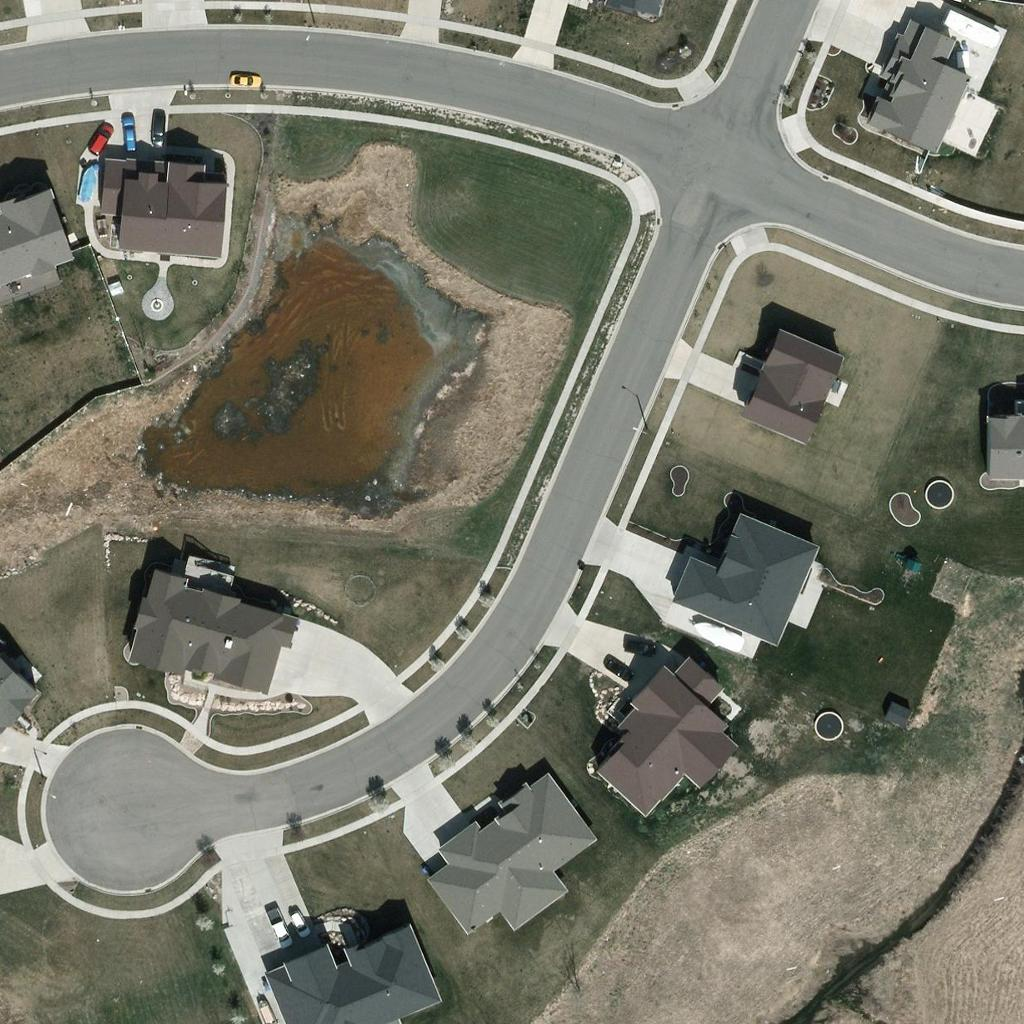car: (225, 61, 259, 95), (141, 111, 175, 145), (111, 112, 145, 146), (84, 123, 118, 157), (621, 629, 655, 663), (598, 649, 632, 683), (279, 905, 313, 939), (264, 914, 298, 948)
